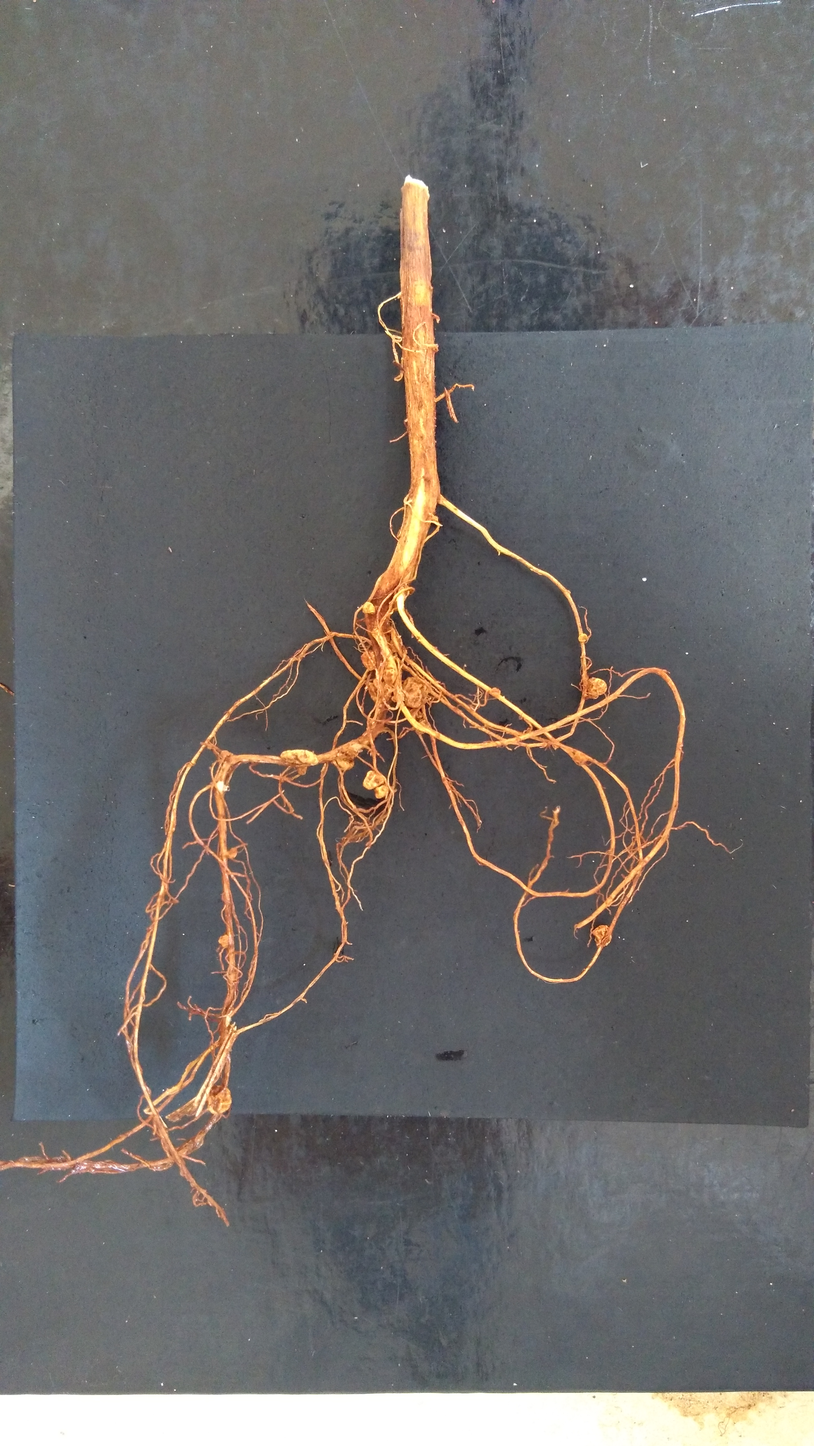nodule: (206, 1084, 233, 1115), (401, 676, 424, 709), (279, 748, 321, 766), (362, 769, 386, 791), (591, 924, 613, 947), (587, 677, 607, 698), (369, 683, 390, 703), (359, 650, 377, 672), (334, 756, 357, 773), (383, 659, 397, 683), (572, 749, 589, 767), (414, 717, 430, 736), (373, 784, 390, 799), (408, 706, 424, 721), (361, 601, 376, 615), (217, 933, 230, 949), (224, 847, 238, 860), (391, 691, 405, 704), (297, 765, 308, 776), (490, 686, 501, 695), (578, 633, 588, 642), (220, 750, 230, 759)
